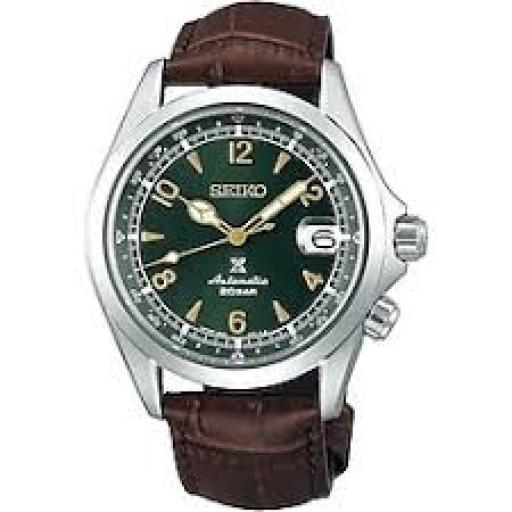KolSaati: (88, 7, 446, 506)
